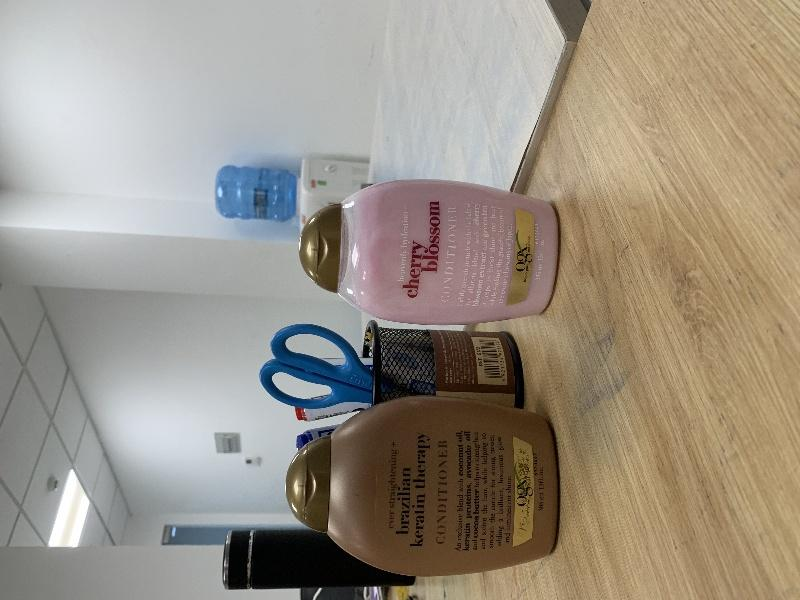BrazilianKerationTherapy_Conditioner: (285, 395, 559, 577)
CherryBlossom_Conditioner: (299, 179, 559, 325)
